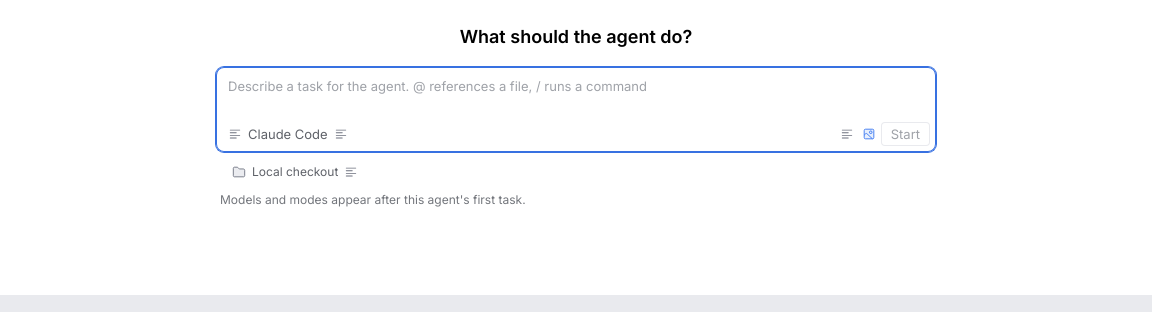
Test: New Task composer commands › offers nothing the project does not have
Replace the text in the text box with "/trig" at x=576, y=93, box [216,67,936,118]
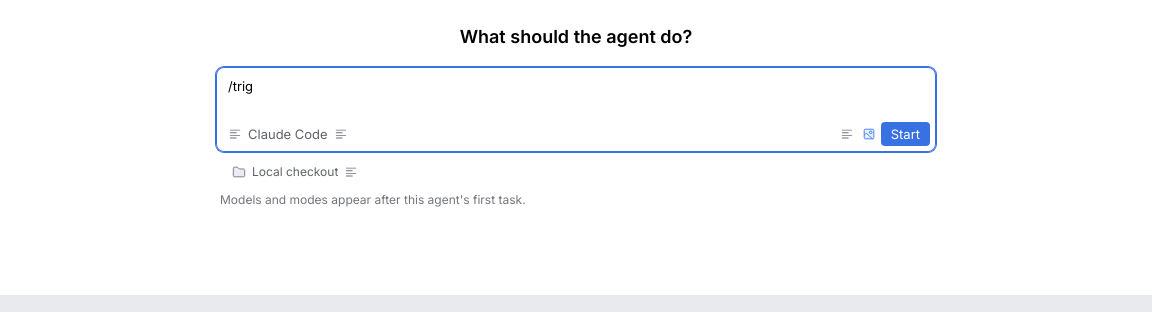
Replace the text in the text box with "/com" at x=576, y=93, box [216,67,936,118]
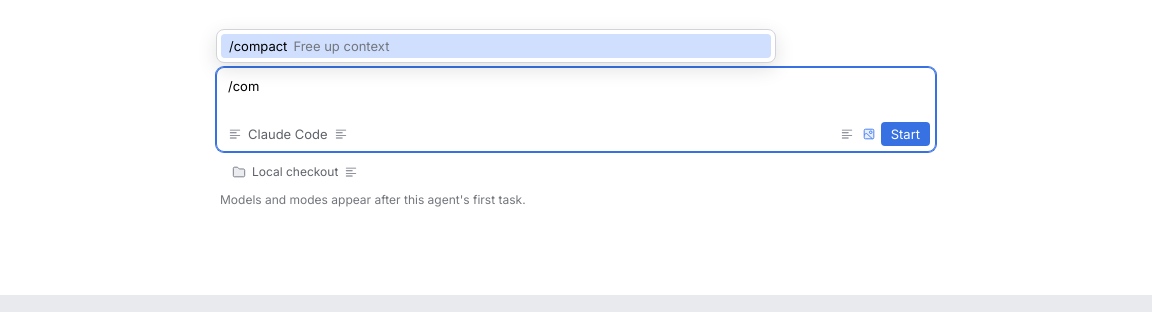
Result: the option shows "/compact" at [221,34,771,58]
